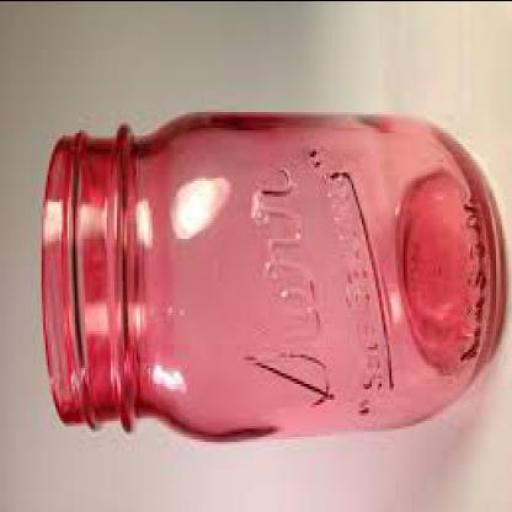glass: (40, 108, 504, 443)
